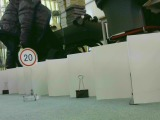speed_20: (18, 47, 38, 68)
